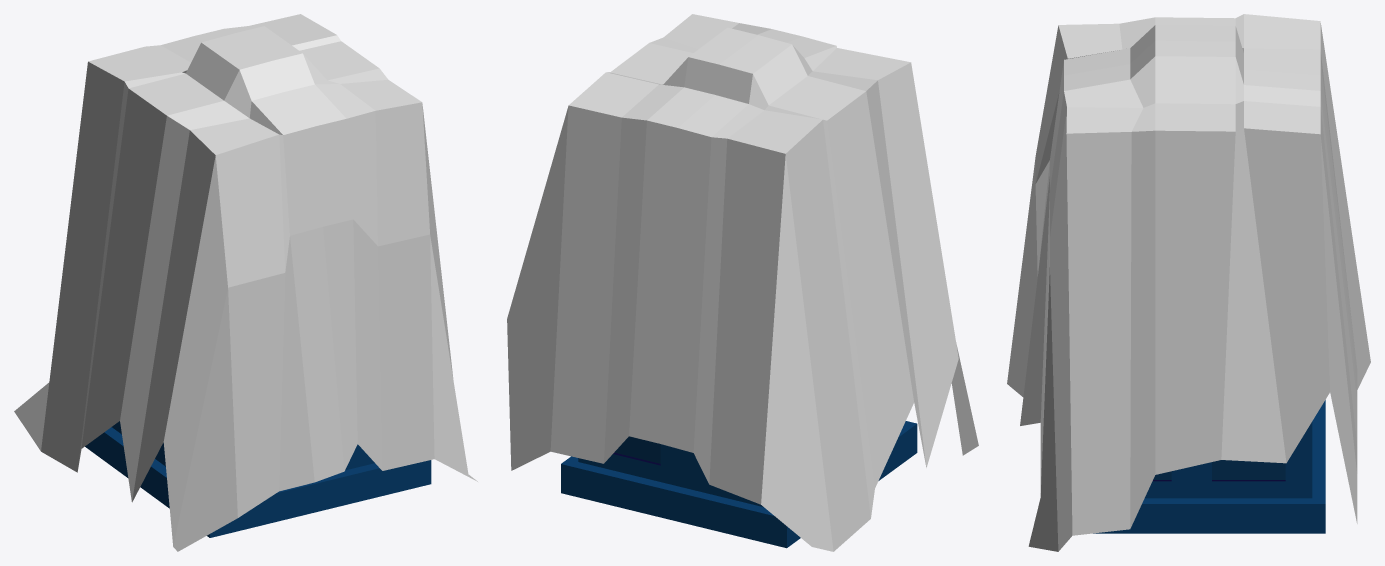
File: Tardis.glb
The picture shows the model from 3 angles, left to right: view 1: azimuth 30°, elevation 25°; view 2: azimuth 150°, elevation 25°; view 3: azimuth 270°, elevation 25°; orthographic projection. The views are drawn at different scales.
Visible parts, largest first — view 1: Plane, Cube; view 2: Plane, Cube; view 3: Plane, Cube.
Boxes of the visible parts, x1,y1,x2,y2 form: Plane: [14, 14, 477, 551]; Cube: [85, 421, 431, 537]; Plane: [507, 14, 978, 551]; Cube: [561, 421, 917, 548]; Plane: [1007, 14, 1370, 551]; Cube: [1093, 400, 1325, 533].
Size of the model in its own units: 3.19 by 3.99 by 3.02.
